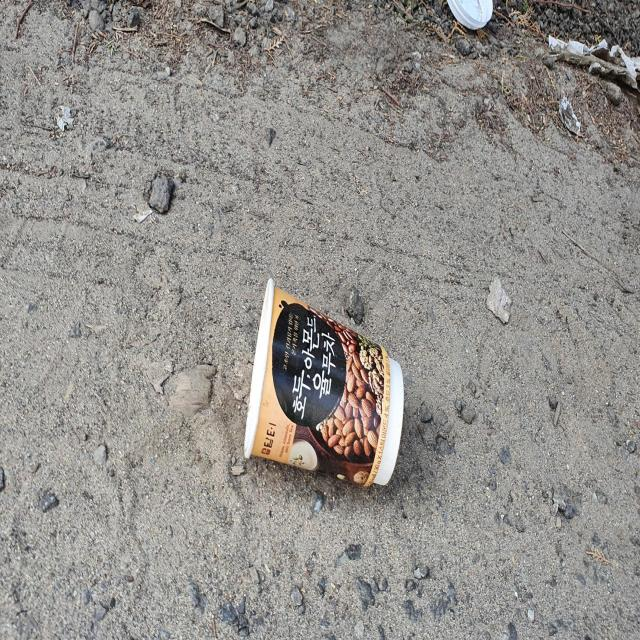paperpack: (244, 279, 404, 487)
